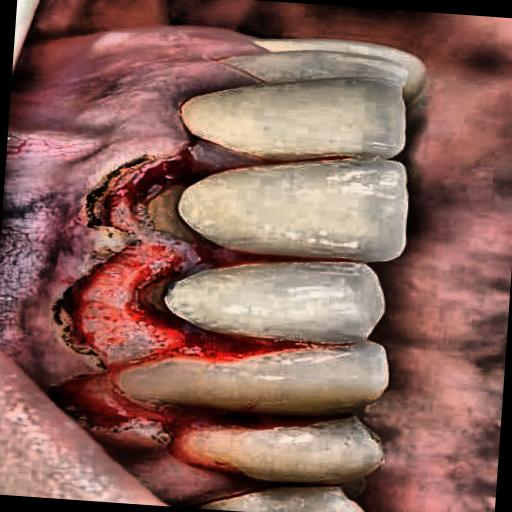Gingivitis: (11, 82, 263, 512)
